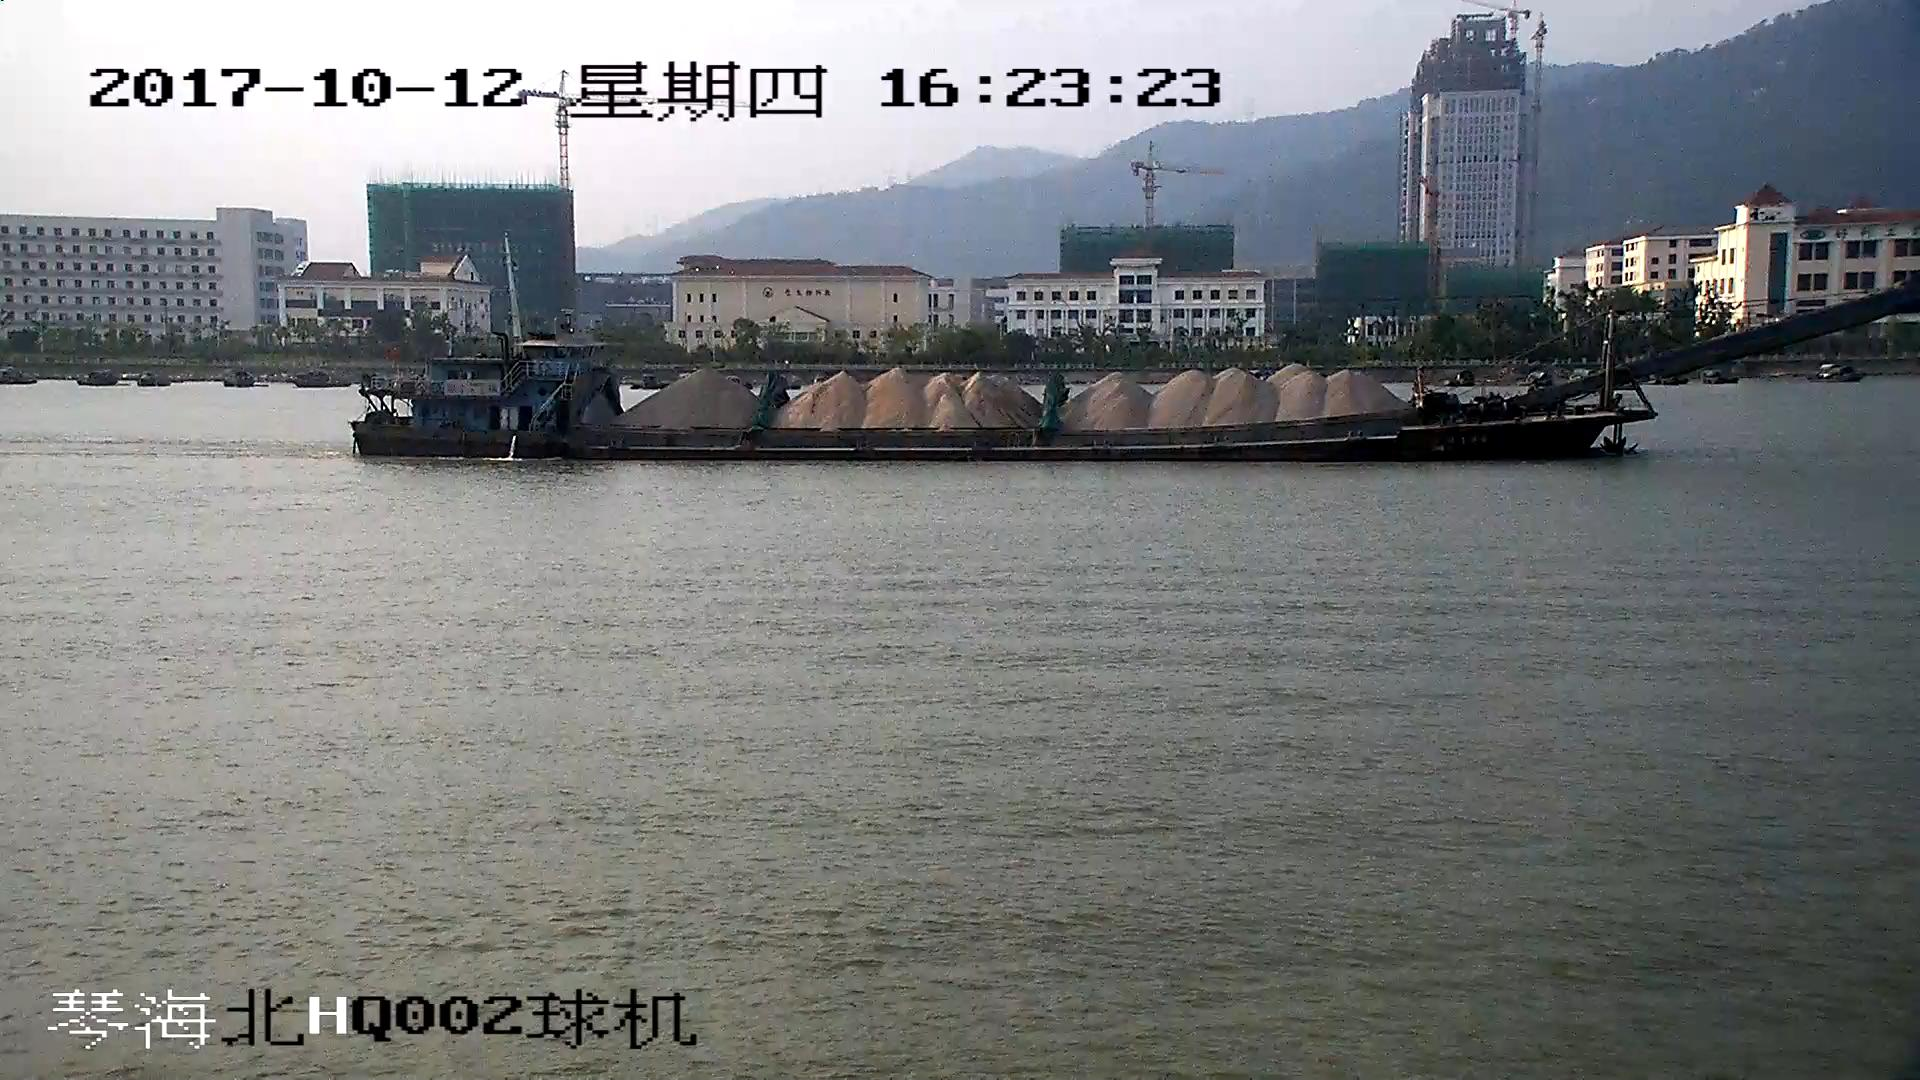ore carrier: (351, 278, 1920, 464)
